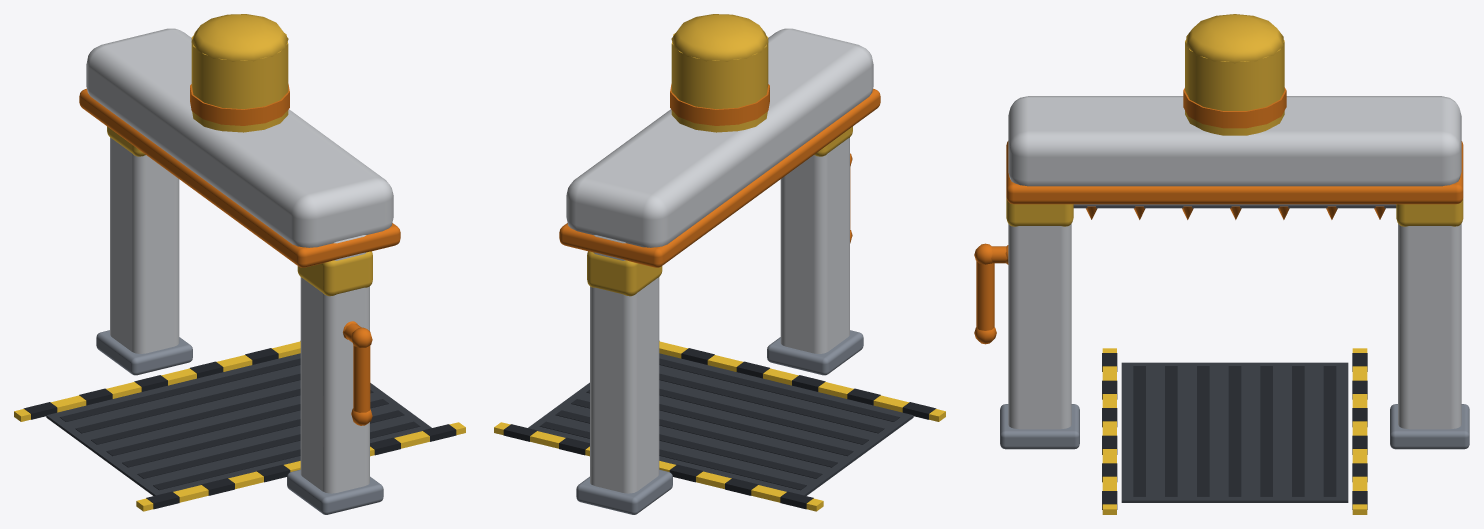
The model's file is machine_wax.glb.
3 views of the same model, side by side, from view 1: azimuth 30°, elevation 25°; view 2: azimuth 150°, elevation 25°; view 3: azimuth 270°, elevation 25° (orthographic). The views are drawn at different scales.
Visible parts, largest first — view 1: Machine_wax, Floor; view 2: Machine_wax, Floor; view 3: Machine_wax, Floor.
Part boxes in pixels (bbox=[...]): Machine_wax: bbox=[79, 14, 400, 514]; Floor: bbox=[14, 341, 465, 511]; Machine_wax: bbox=[559, 14, 880, 514]; Floor: bbox=[494, 341, 945, 511]; Machine_wax: bbox=[974, 14, 1469, 449]; Floor: bbox=[1102, 348, 1367, 514].
Size of the model in its own units: 4.2 by 5.02 by 5.46.
